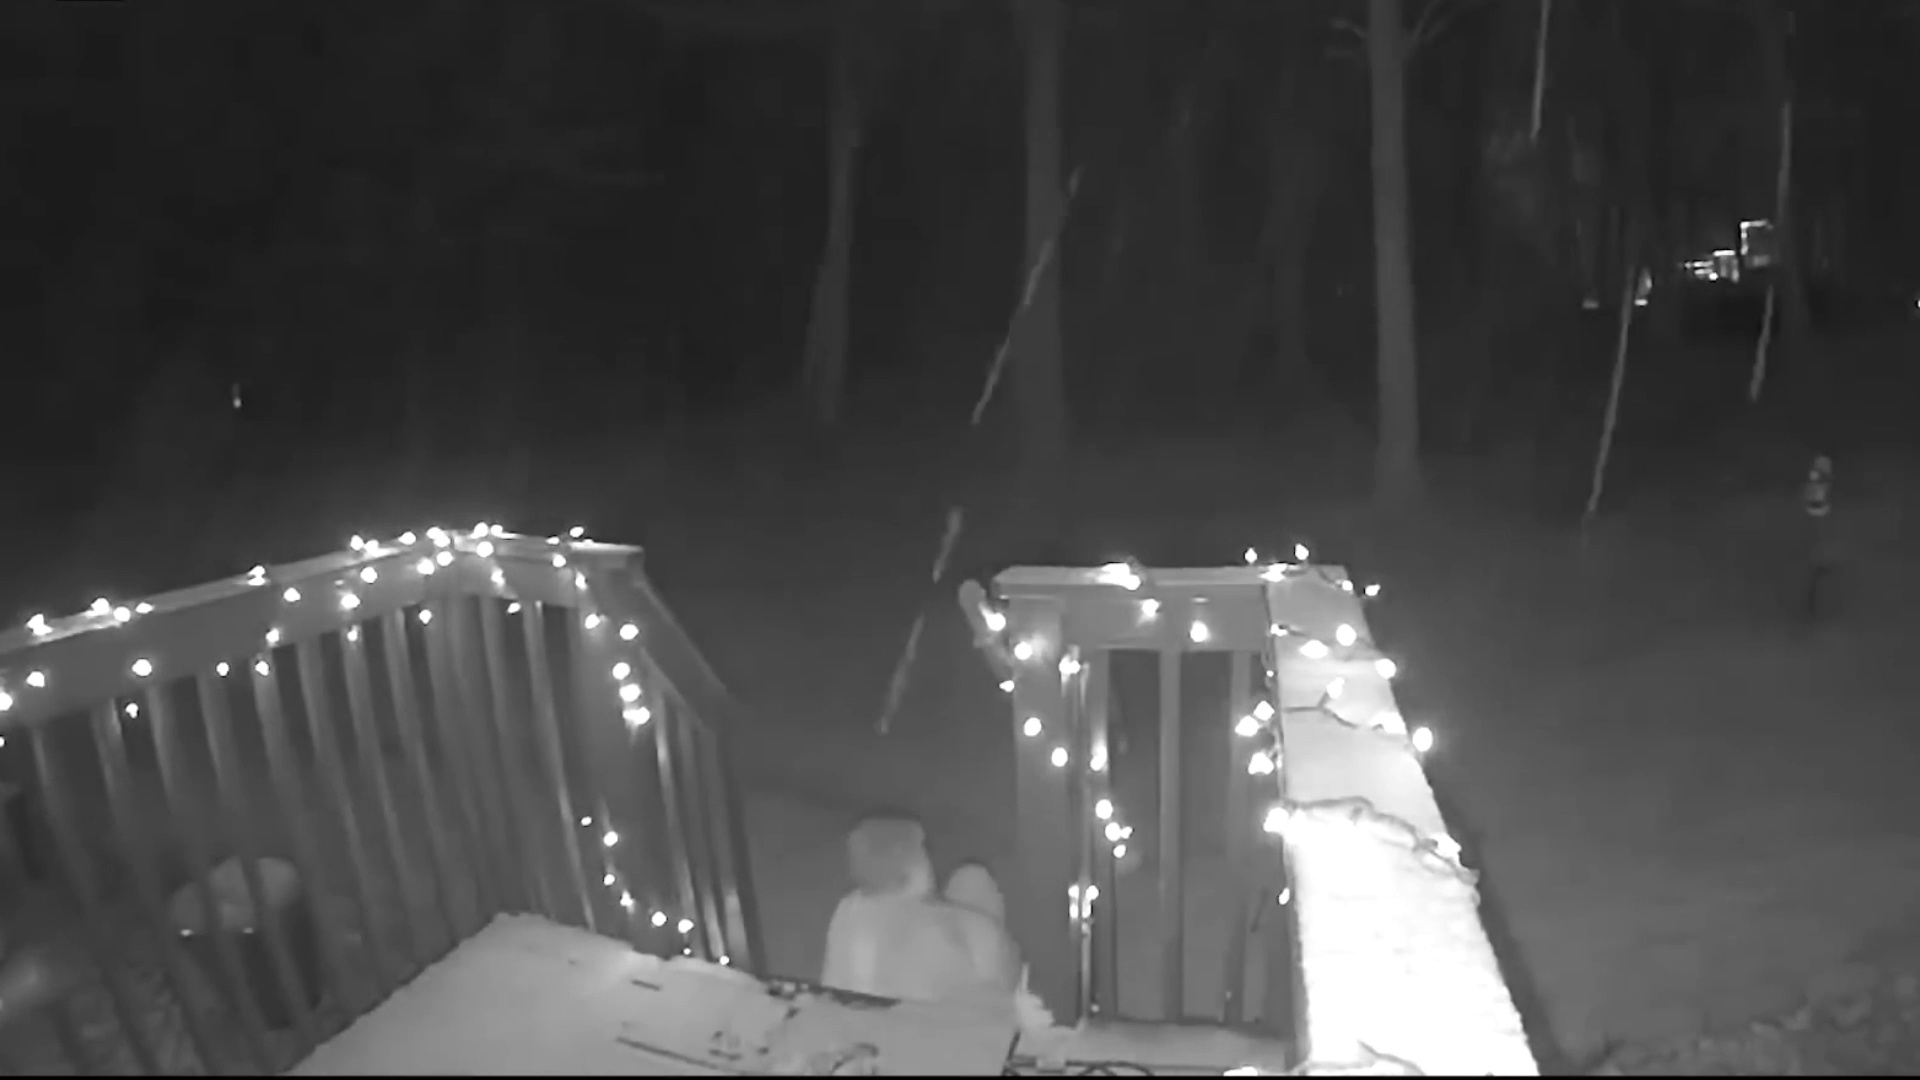fall: (744, 782, 1120, 1080)
